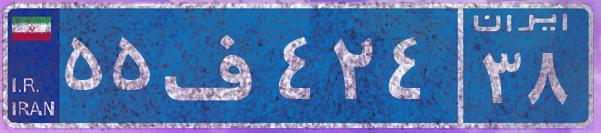2: (330, 28, 385, 110)
3: (475, 38, 525, 113)
4: (385, 28, 445, 110), (273, 28, 330, 110)
5: (57, 26, 110, 107), (110, 28, 158, 105)
8: (525, 38, 570, 115)
ف: (158, 15, 273, 115)
